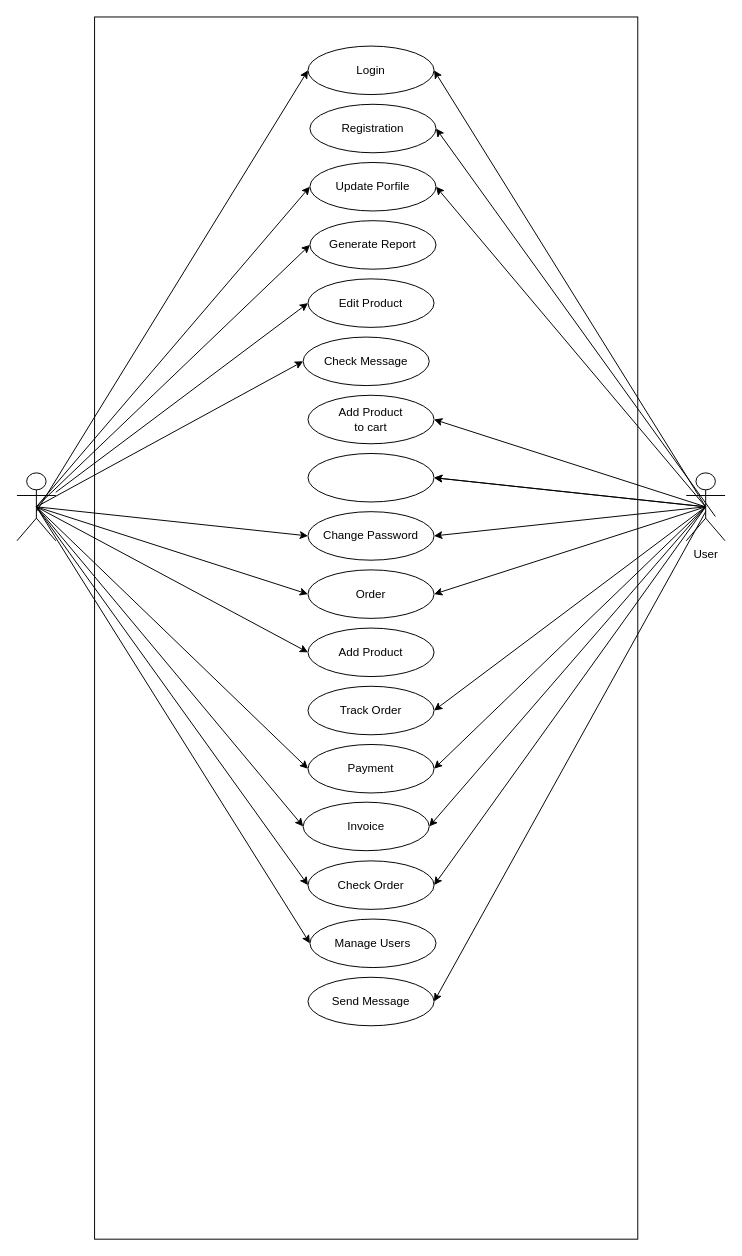
The diagram is 742 pixels wide and 1256 high, and some of its shapes have lost their labels. Here are the shapes that lost their labels. From the top down, the centre of each, then its label:
point 370,477: Filter Product
point 36,506: Admin
